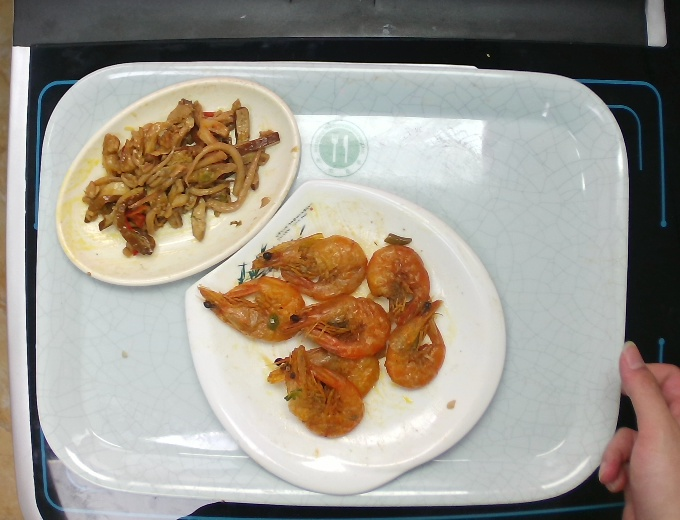JYsf-Mian_Pan: (179, 173, 511, 499)
JYsf-Tuo_Yuan_Wan: (51, 72, 306, 295)
